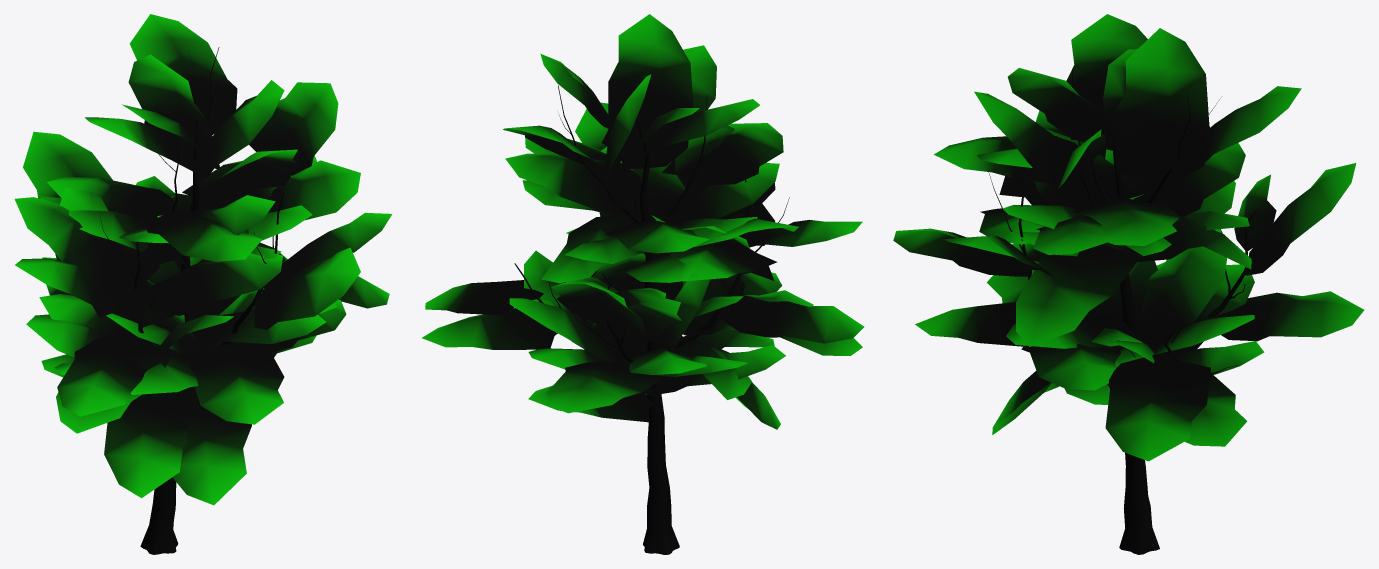
File: SM_Oak_Tree_02.fbx
The picture shows the model from 3 angles, left to right: view 1: azimuth 30°, elevation 25°; view 2: azimuth 150°, elevation 25°; view 3: azimuth 270°, elevation 25°; orthographic projection. The views are drawn at different scales.
Visible parts, largest first — view 1: SM_Oak_Tree_02; view 2: SM_Oak_Tree_02; view 3: SM_Oak_Tree_02.
Boxes of the visible parts, x1,y1,x2,y2 form: SM_Oak_Tree_02: (14,14,392,554); SM_Oak_Tree_02: (422,14,864,554); SM_Oak_Tree_02: (893,14,1364,554).
Size of the model in its own units: 487 by 559 by 461.
